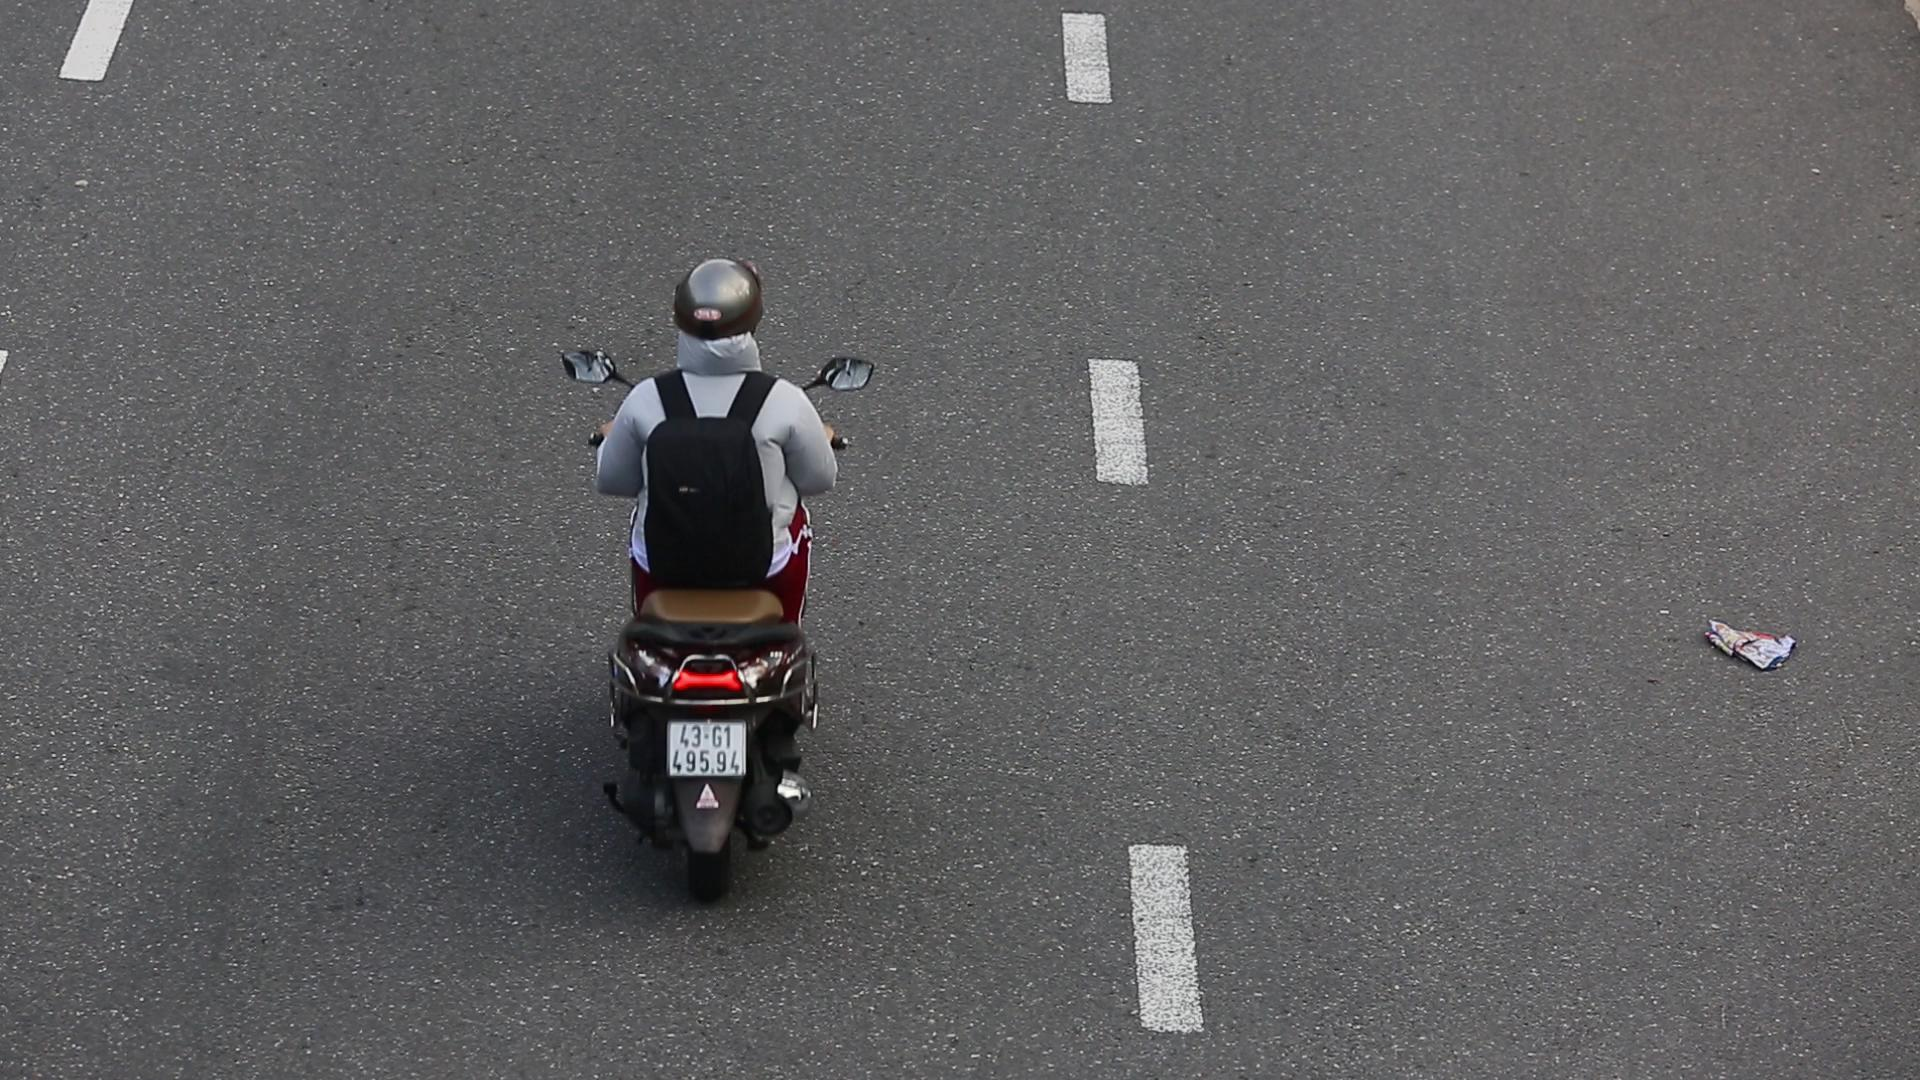motobike: (543, 251, 891, 915)
